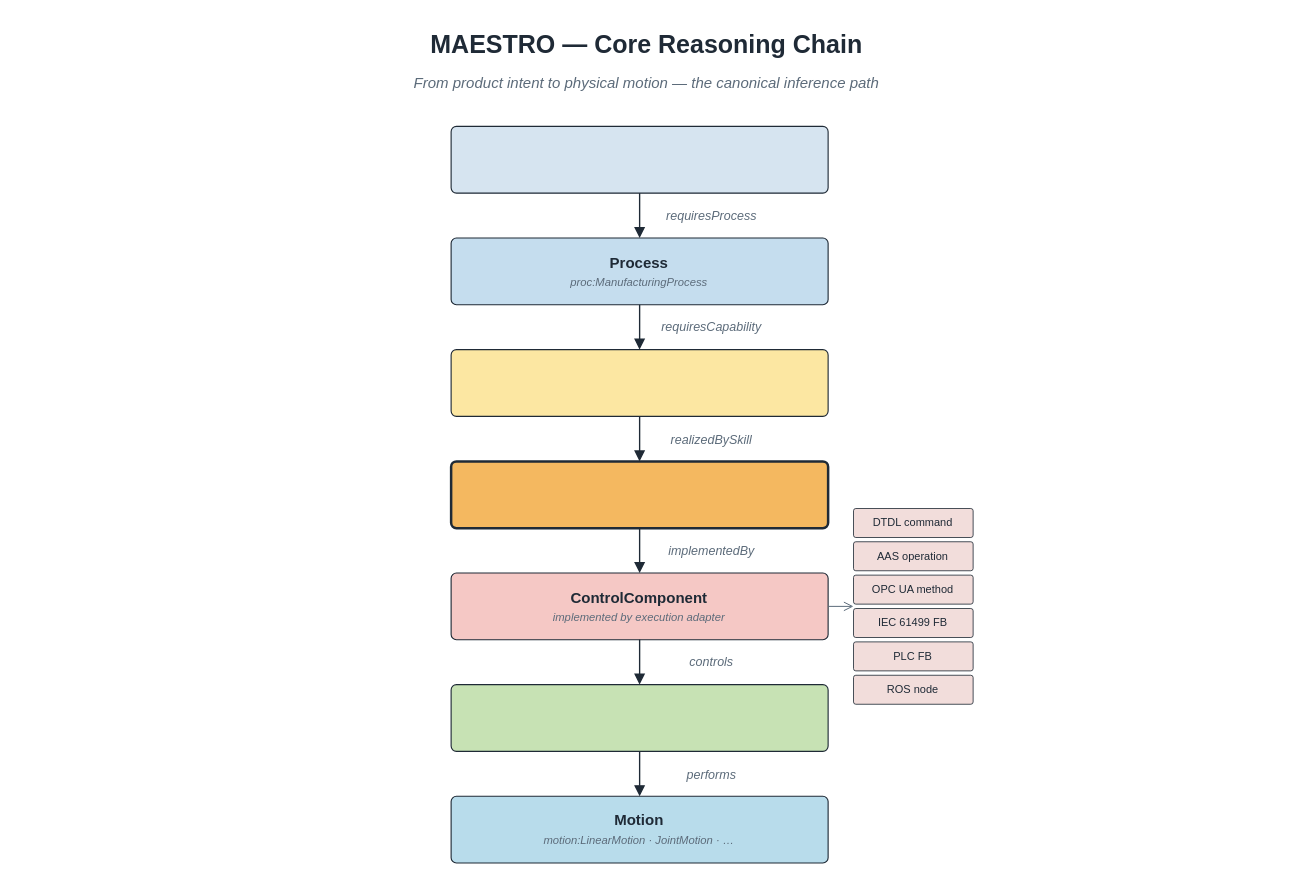
Image size: 1293x885. Some labels were removed from this diagram. The shapes that lost their labels are listed below. From the top down, each one's box as (x1, y1, x2, y2) in pixels, then its label:
(450, 125, 828, 193): Product prod:Product
(450, 348, 828, 416): Capability cap:Capability
(449, 460, 829, 529): Skill skill:AtomicSkill / CompositeSkill
(450, 684, 828, 751): Resource res:Machine · res:Robot · sensor:Sensor
